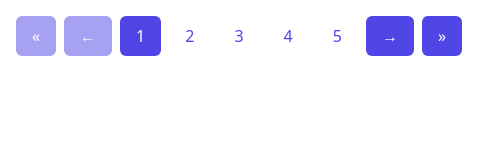
Scenario: Pagination › disables Last/Next buttons on last page and disables Previous/First buttons on first page
Expected: the button with test id "first-page-nav" is disabled, x1=16 y1=16 x2=56 y2=56
Expected: the button with test id "previous-page-nav" is disabled, x1=64 y1=16 x2=112 y2=56
Click the button with test id "last-page-nav" at (442, 36), box x1=422 y1=16 x2=462 y2=56
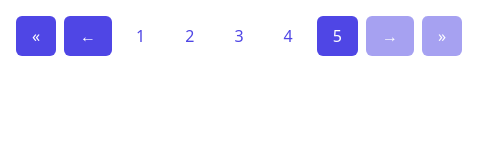
Now the button with test id "next-page-nav" is disabled, box x1=366 y1=16 x2=414 y2=56
Now the button with test id "last-page-nav" is disabled, box x1=422 y1=16 x2=462 y2=56
